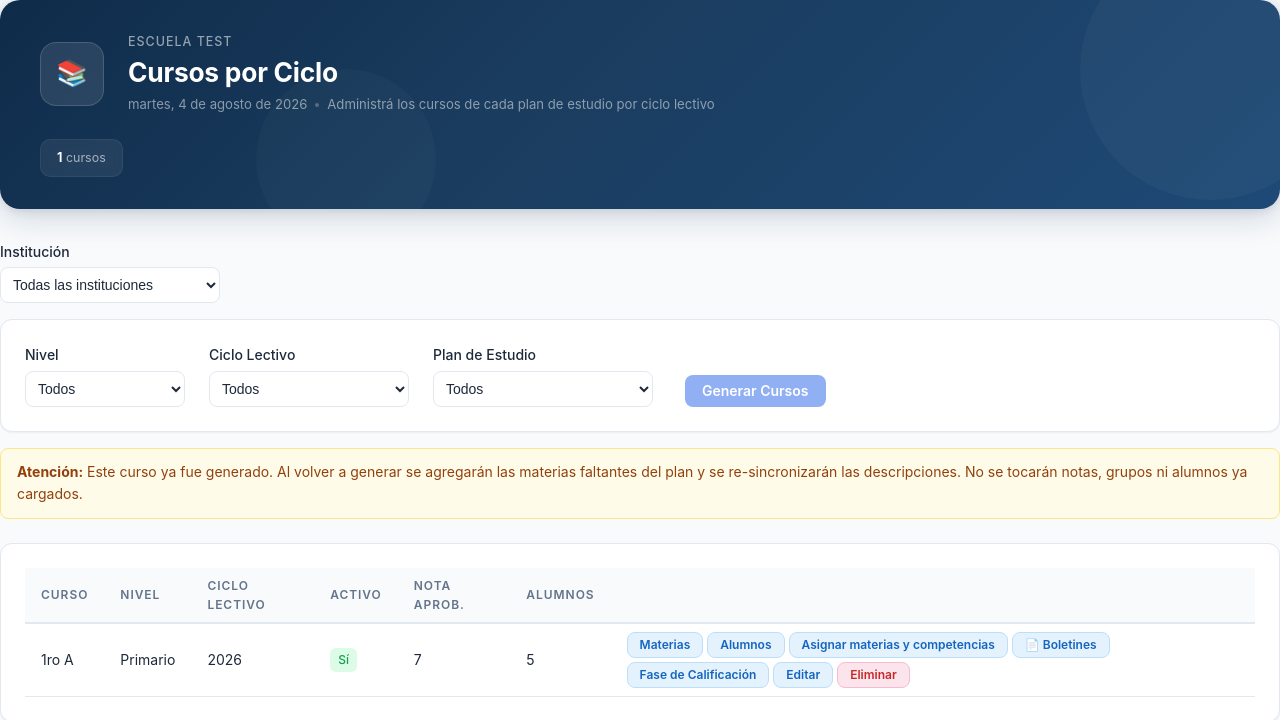
Test: CourseCyclesPage › Bulk cascade button › W-22: success toast shows aggregated counts after successful cascade
Click the button with test id "btn-bulk-cascade-cc-bulk-1" at {"x": 898, "y": 645}, box x1=788 y1=632 x2=1008 y2=658
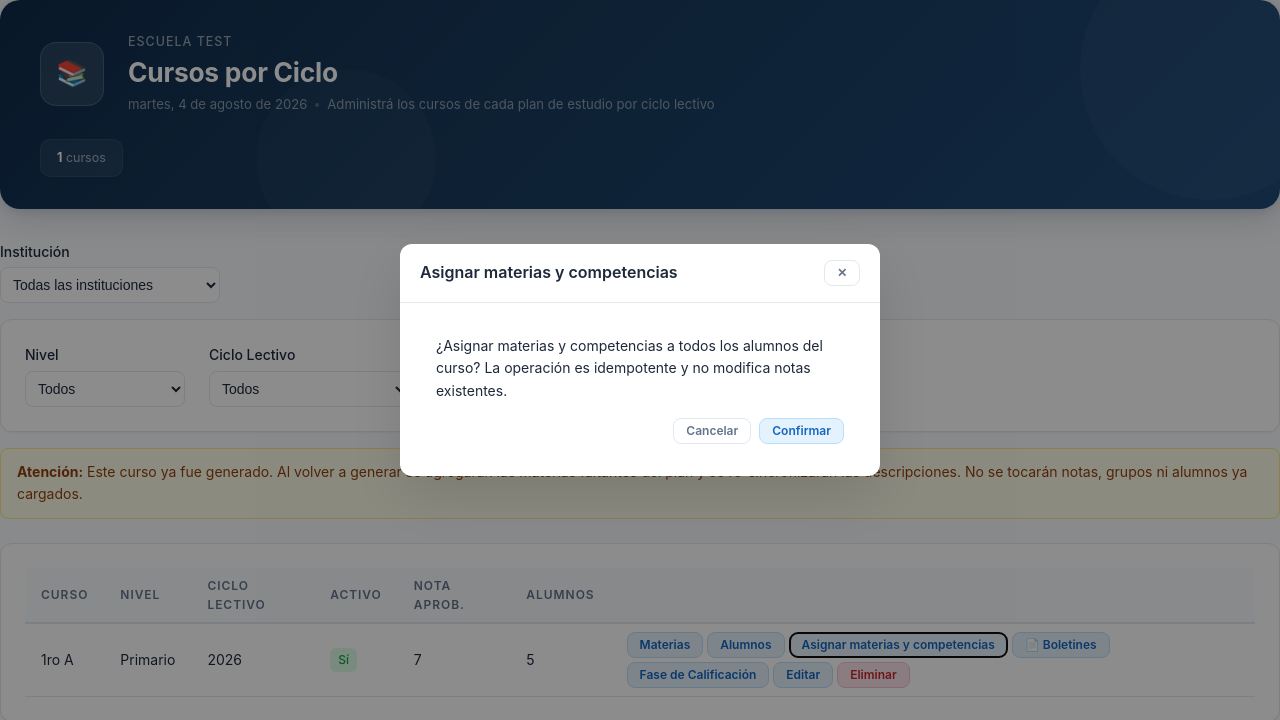
Click the button with test id "btn-confirm-bulk-cascade" at {"x": 802, "y": 431}, box x1=759 y1=418 x2=844 y2=444
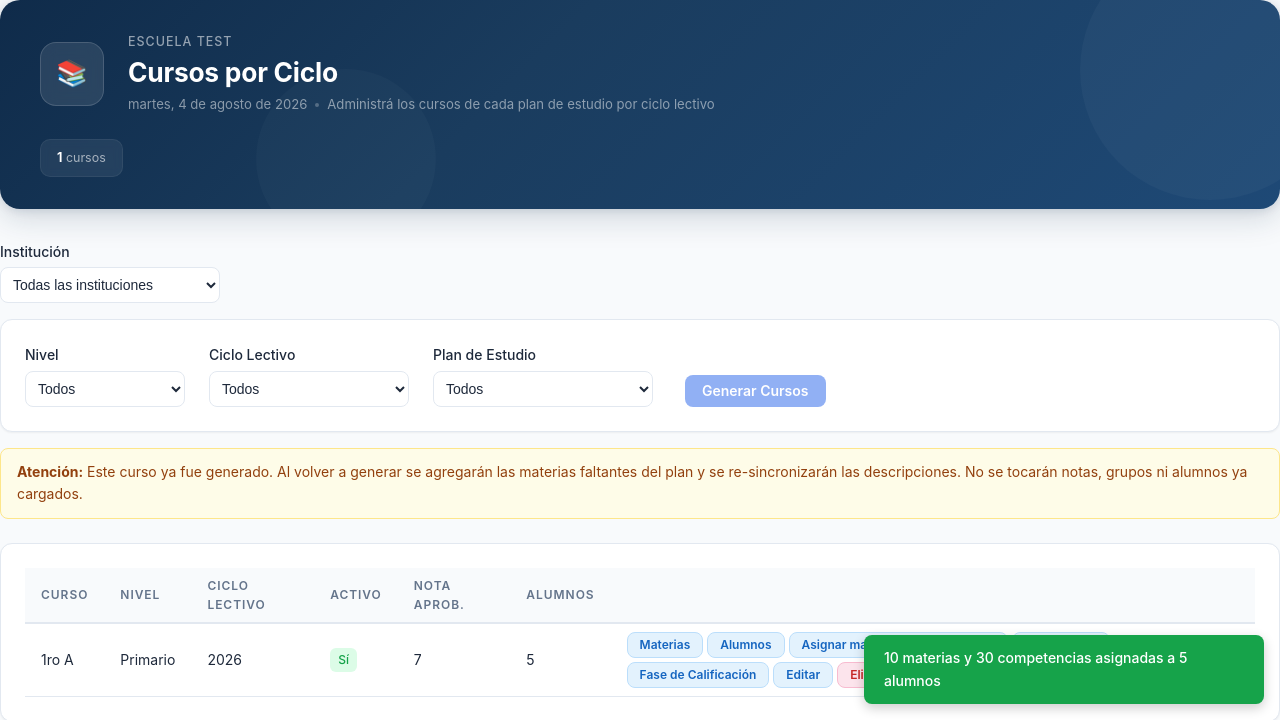
Result: the text "10 materias y 30 competencias asignadas a 5 alumnos" is shown at x1=864 y1=635 x2=1264 y2=704
